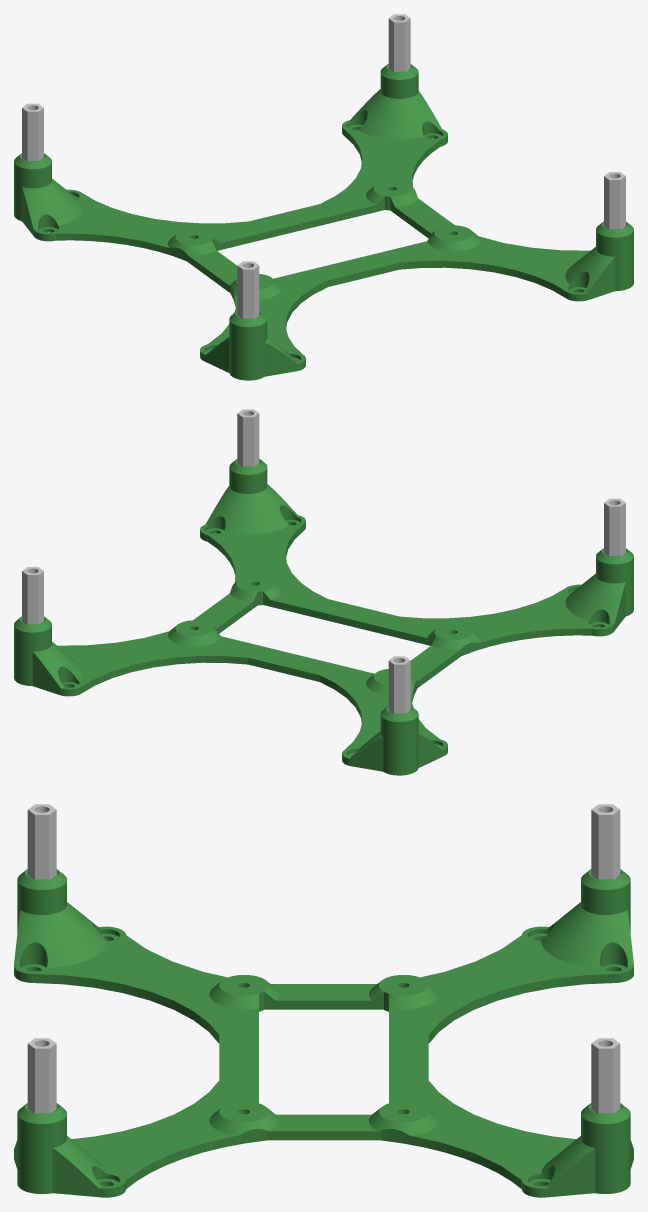
File: holybro_x500_pc_mount.dae
The picture shows the model from 3 angles, top to bottom: view 1: azimuth 30°, elevation 25°; view 2: azimuth 150°, elevation 25°; view 3: azimuth 270°, elevation 25°; orthographic projection. The views are drawn at different scales.
Parts seen in each view (by area): view 1: Body1; view 2: Body1; view 3: Body1.
Part boxes in pixels (x1,y1,x2,y2): Body1: (14, 14, 633, 380); Body1: (14, 409, 633, 775); Body1: (14, 804, 633, 1197).
Size of the model in its own units: 0.1243 by 0.1243 by 0.031.
